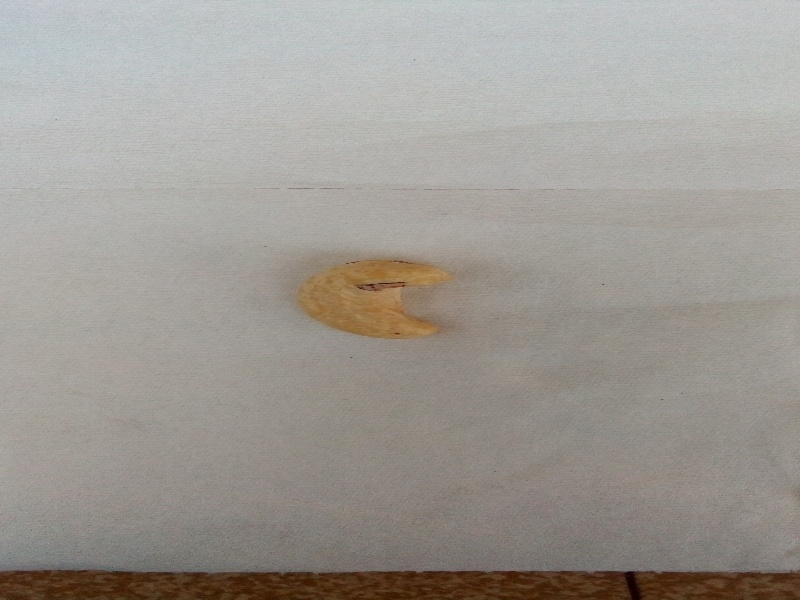cashew: (271, 226, 475, 372)
